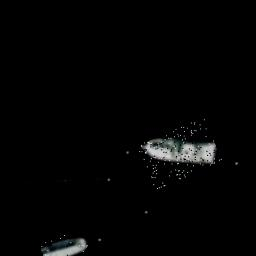boat: (136, 117, 222, 190), (40, 231, 92, 256)
